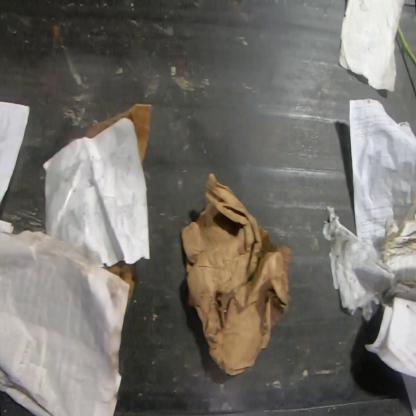cardboard: (180, 172, 294, 377), (87, 103, 153, 169), (101, 261, 138, 315)
